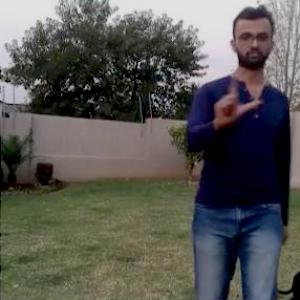land_hand: (208, 58, 263, 126)
